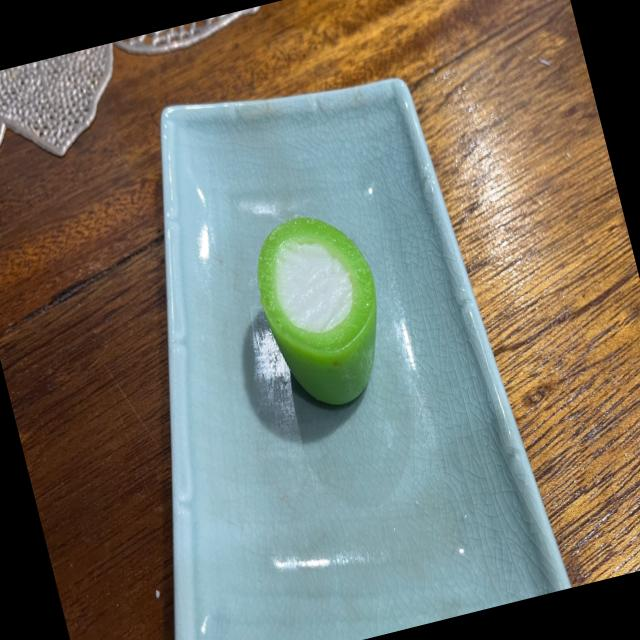nona-manis: (257, 216, 376, 405)
